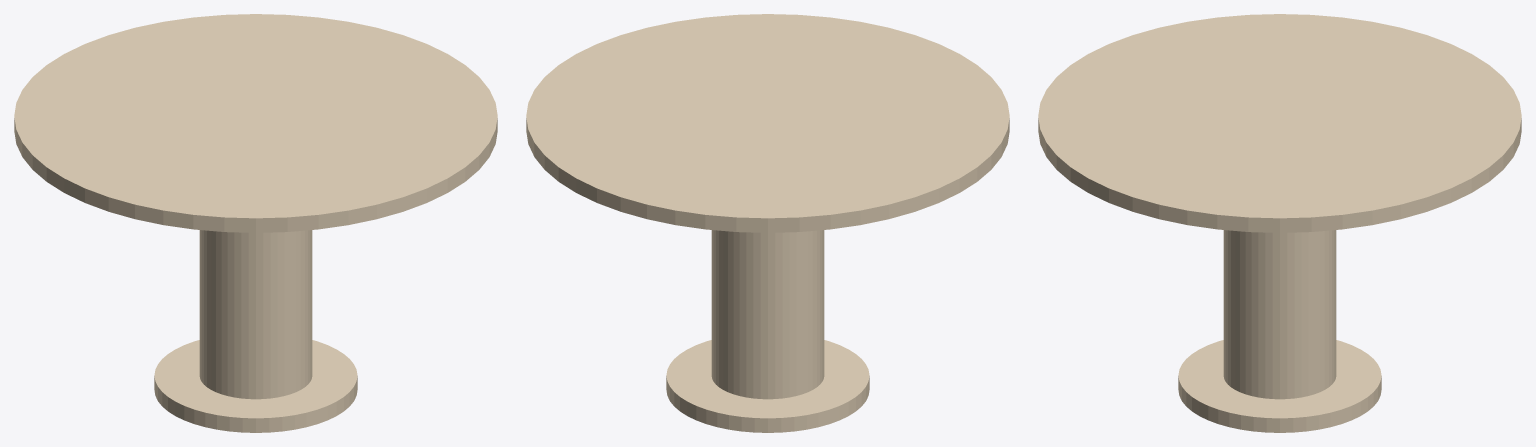
The model's file is eclipse-round-dining-table-oak.glb.
3 views of the same model, side by side, from view 1: azimuth 30°, elevation 25°; view 2: azimuth 150°, elevation 25°; view 3: azimuth 270°, elevation 25° (orthographic).
Parts seen in each view (by area): view 1: geometry_0; view 2: geometry_0; view 3: geometry_0.
Boxes of the visible parts, x1,y1,x2,y2 form: geometry_0: (14,14,497,432); geometry_0: (526,14,1009,432); geometry_0: (1038,14,1521,432).
Bounding box in the file's own units: 1.2 × 0.75 × 1.2.
